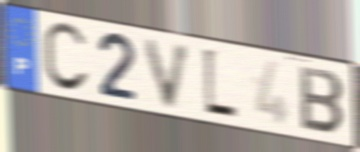2: (95, 29, 141, 107)
4: (252, 59, 292, 129)
B: (298, 63, 347, 137)
C: (40, 20, 92, 96)
L: (200, 44, 240, 123)
V: (141, 36, 195, 112)
